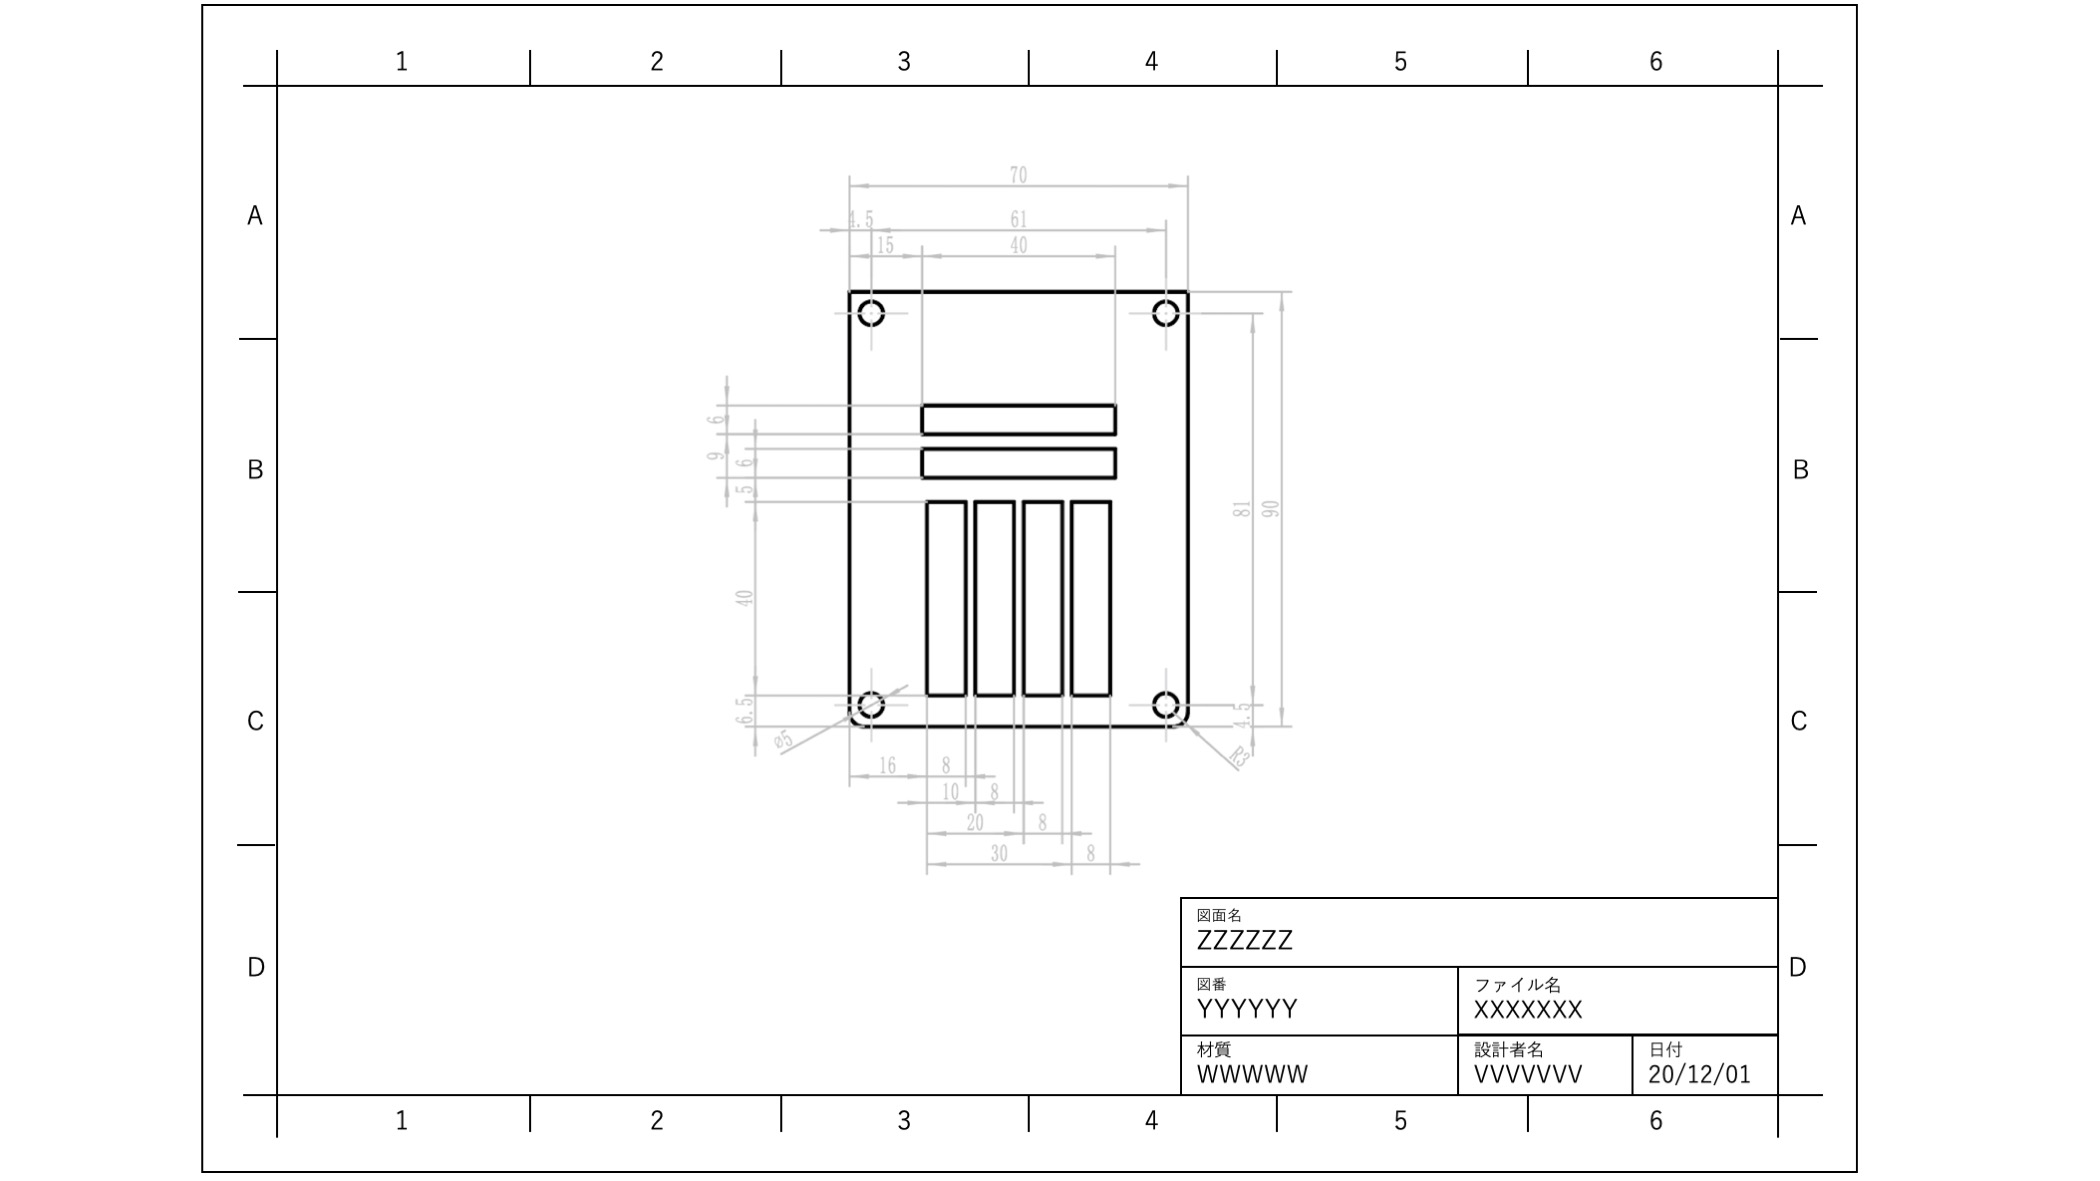circle: (1139, 290, 1184, 332), (1147, 686, 1187, 724), (848, 681, 886, 718), (852, 288, 884, 324)
rectangle: (913, 394, 1118, 447), (1067, 490, 1121, 695), (1015, 487, 1067, 696), (922, 487, 972, 701), (969, 489, 1020, 701), (909, 435, 1126, 483)
